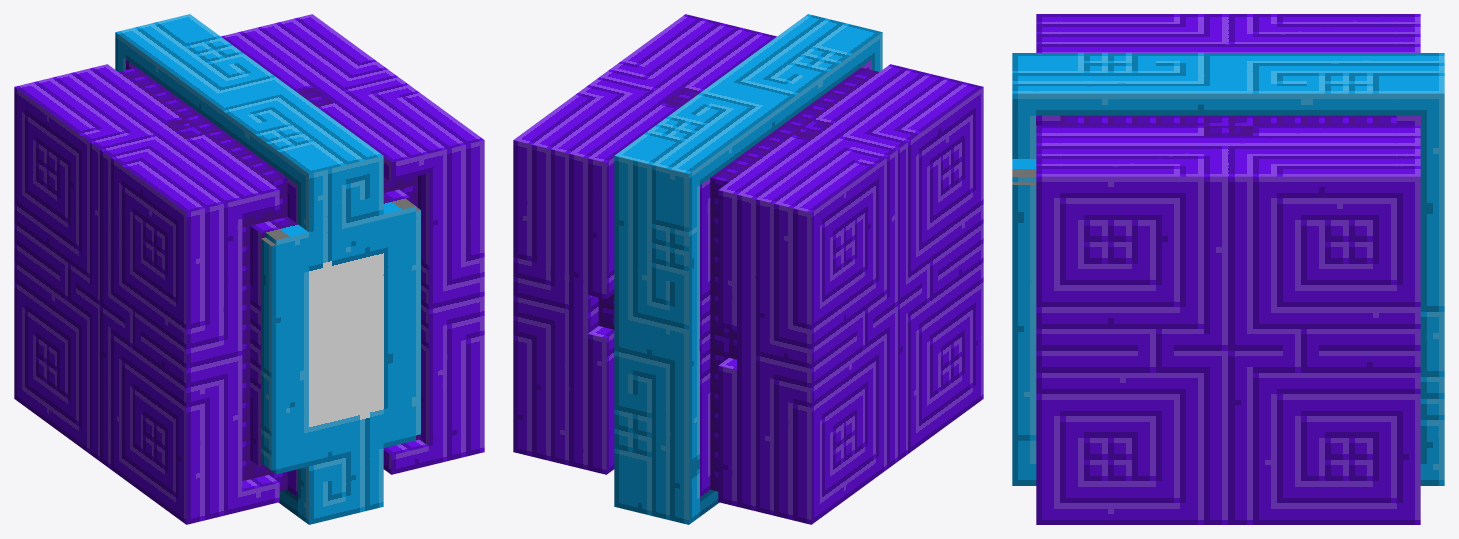
File: mothercubeao.fezao.glb
3 renders of one model, left to right at view 1: azimuth 30°, elevation 25°; view 2: azimuth 150°, elevation 25°; view 3: azimuth 270°, elevation 25°, orthographic. The views are drawn at different scales.
Parts seen in each view (by area): view 1: MOTHERCUBEAO; view 2: MOTHERCUBEAO; view 3: MOTHERCUBEAO.
Part boxes in pixels (box(x1,y1,x2,y2)): MOTHERCUBEAO: box(14, 14, 484, 524); MOTHERCUBEAO: box(513, 14, 983, 524); MOTHERCUBEAO: box(1012, 14, 1444, 524).
Size of the model in its own units: 4 by 4.5 by 4.5.
1 material, 1 textured.
